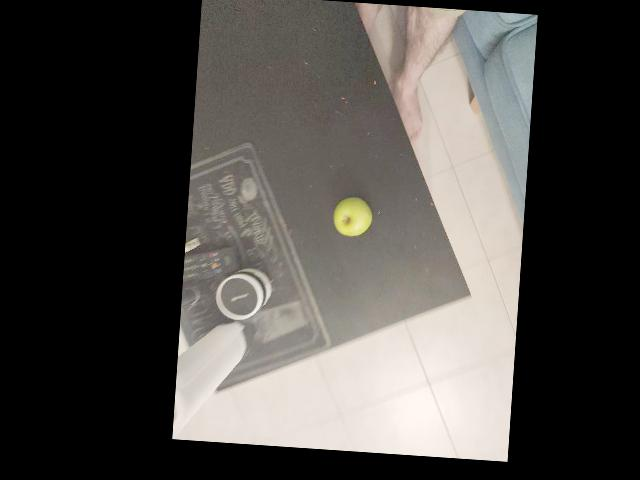apple: (393, 249, 454, 311)
